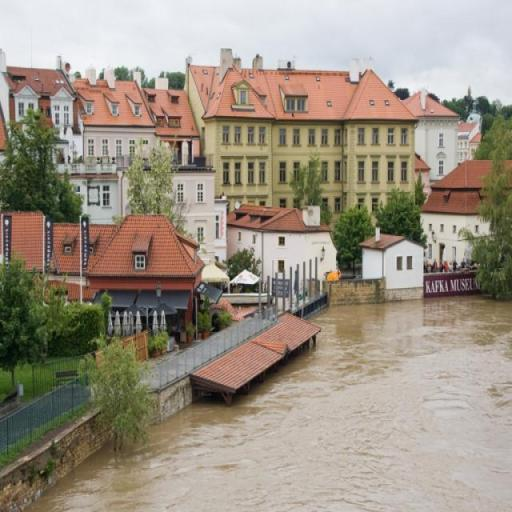flood: (21, 295, 512, 512)
house: (181, 48, 415, 196), (86, 211, 204, 322), (425, 156, 512, 261), (230, 203, 339, 283), (73, 76, 157, 162), (404, 90, 485, 166), (0, 65, 78, 127), (146, 86, 202, 168), (359, 233, 423, 286), (0, 211, 47, 270), (53, 220, 81, 278)
